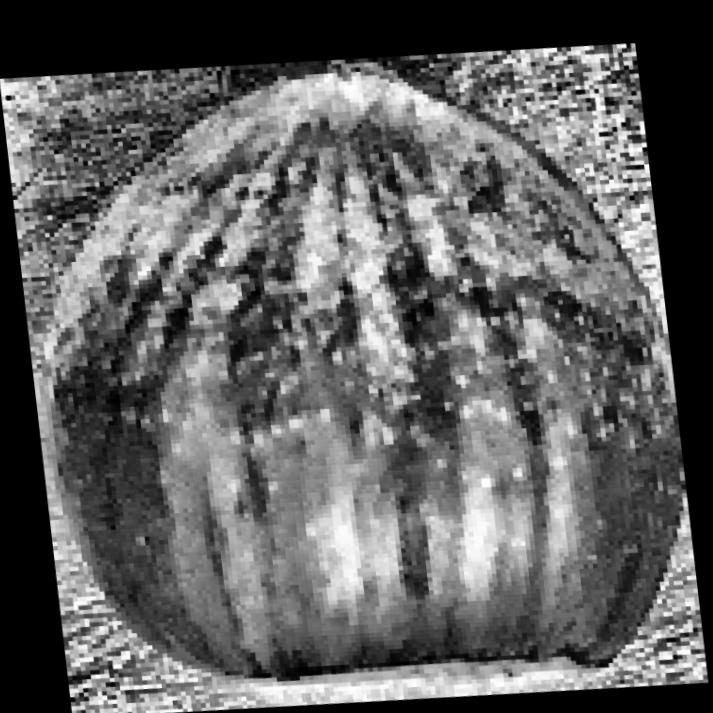qualityHazelnut: (0, 4, 713, 713)
